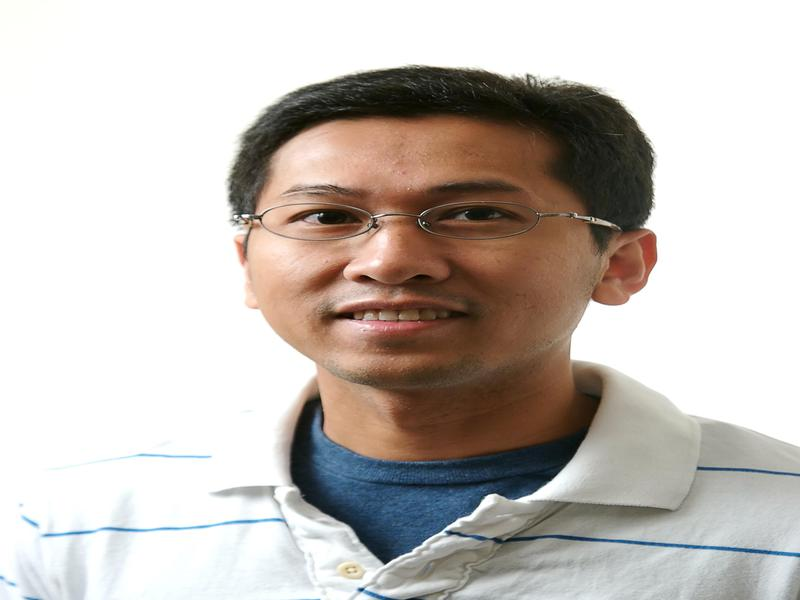person: (16, 60, 800, 600)
